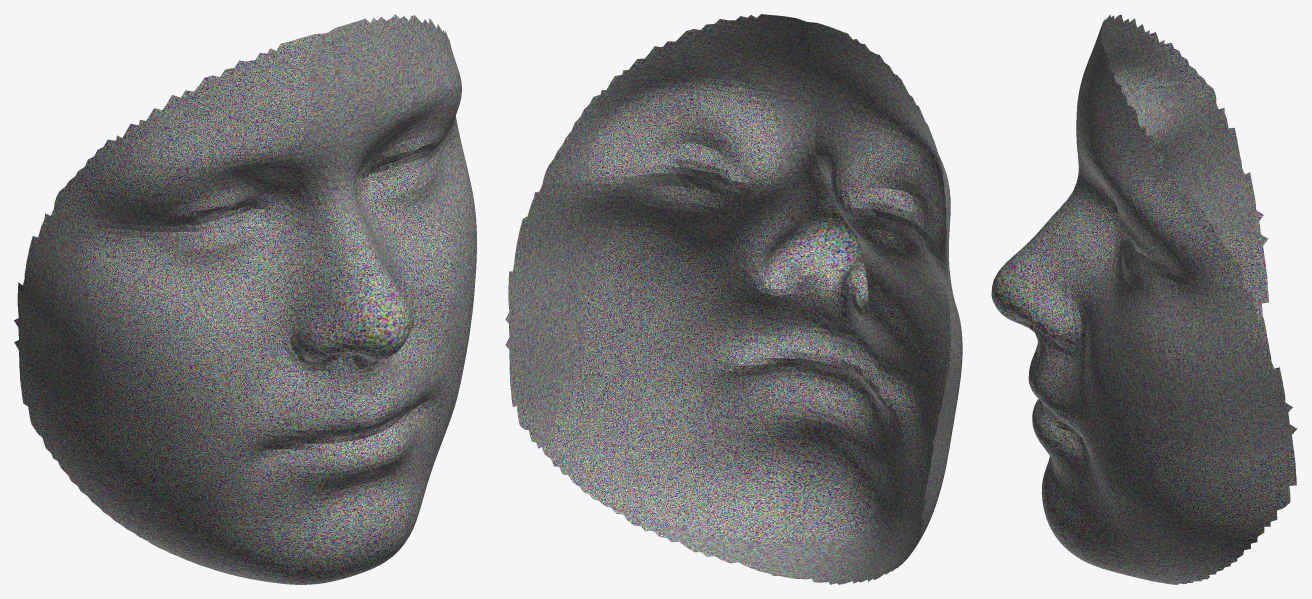
The model's file is Template_Rigidly_Aligned.obj.
3 renders of one model, left to right at view 1: azimuth 30°, elevation 25°; view 2: azimuth 150°, elevation 25°; view 3: azimuth 270°, elevation 25°, orthographic. The views are drawn at different scales.
Visible parts, largest first — view 1: Template_Rigidly_Aligned; view 2: Template_Rigidly_Aligned; view 3: Template_Rigidly_Aligned.
Part boxes in pixels (<box>): Template_Rigidly_Aligned: <box>14,14,476,584</box>; Template_Rigidly_Aligned: <box>505,14,962,584</box>; Template_Rigidly_Aligned: <box>991,14,1296,584</box>.
Bounding box in the file's own units: 155 × 188 × 99.39.
1 material, 1 textured.
